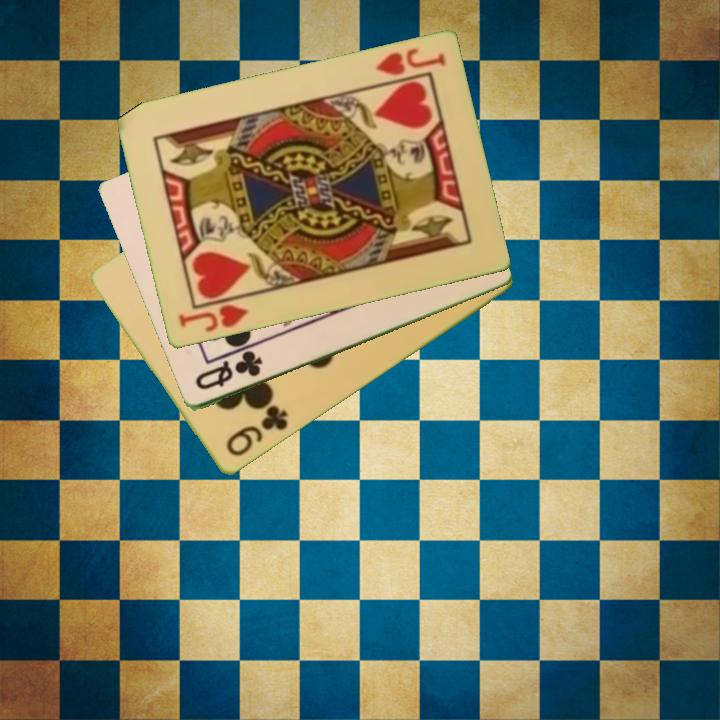9c: (222, 402, 291, 460)
Jh: (174, 301, 251, 336), (371, 45, 448, 79)
Qc: (191, 347, 266, 394)
